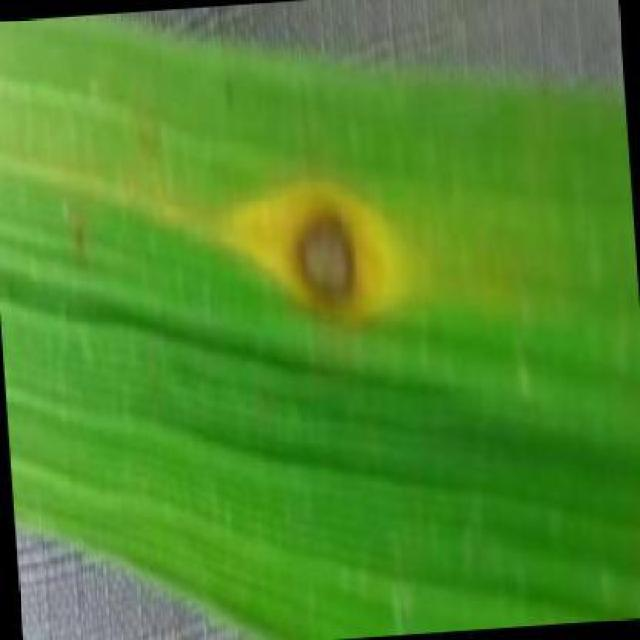Leaf_Blast: (236, 158, 402, 367), (58, 214, 102, 278), (208, 65, 248, 124), (121, 114, 161, 164), (116, 163, 149, 202)
